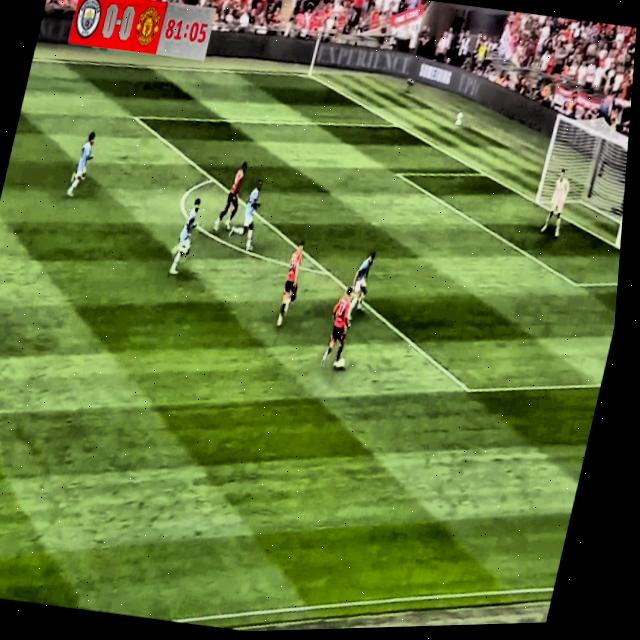ball: (333, 352, 349, 376)
goal_keeper: (530, 162, 583, 255)
players: (266, 226, 323, 337), (165, 180, 213, 278), (317, 276, 363, 372), (225, 172, 275, 256), (63, 119, 106, 208), (211, 152, 254, 239), (341, 242, 380, 329)
